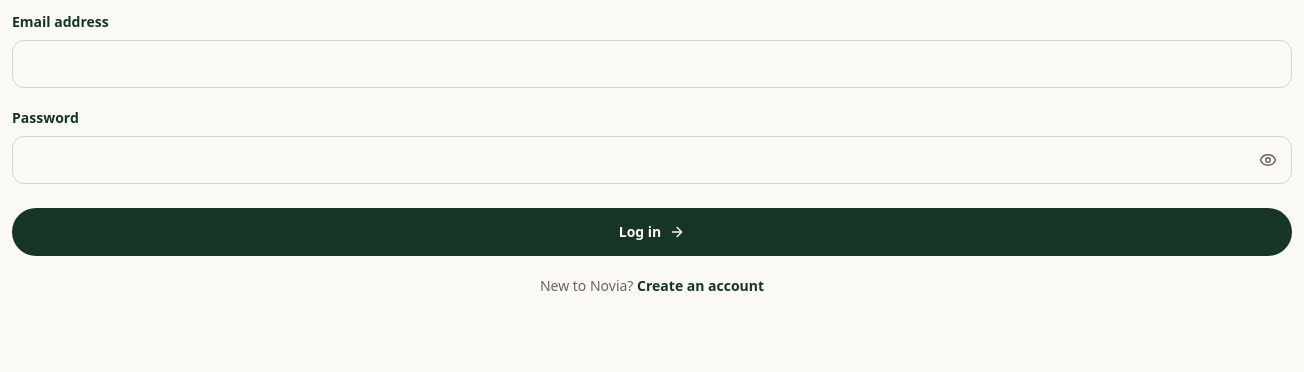
Test: AuthForm › shows server authentication errors
Step 1. Type "user@example.com" into the field labelled "Email address" → (652, 64), box [12, 40, 1292, 88]
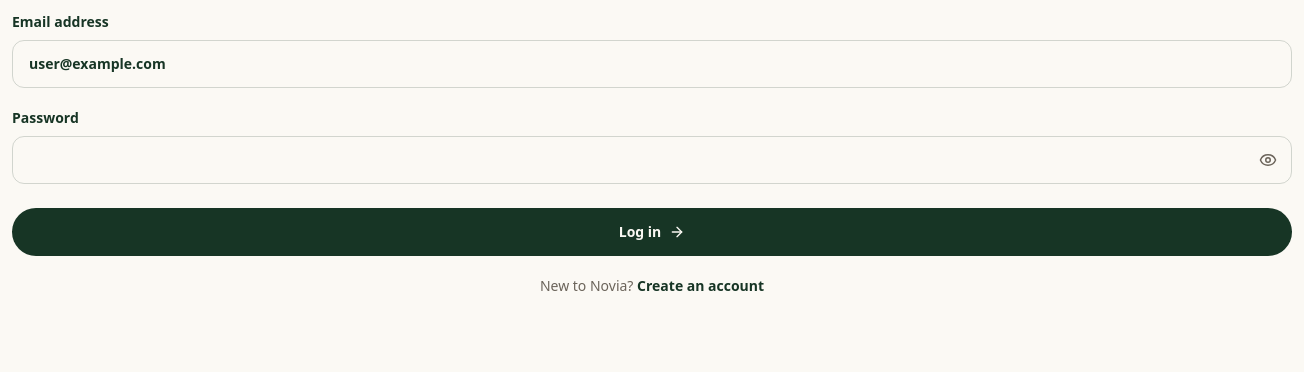
Step 2. Type "password123" into the password field labelled "Password" → (652, 160), box [12, 136, 1292, 184]
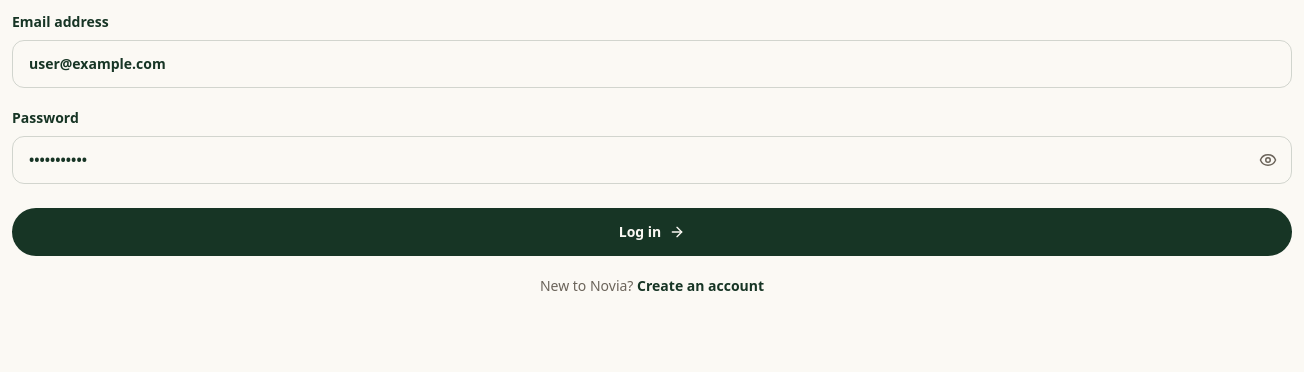
Step 3. Click the button "Log in" → (652, 232), box [12, 208, 1292, 256]
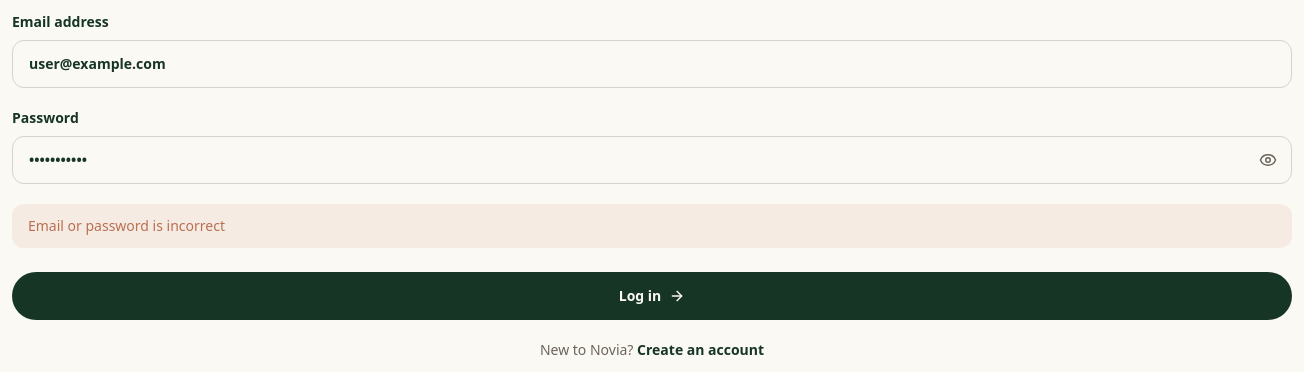
Expected: the message reads "Email or password is incorrect", [28, 216, 225, 235]
